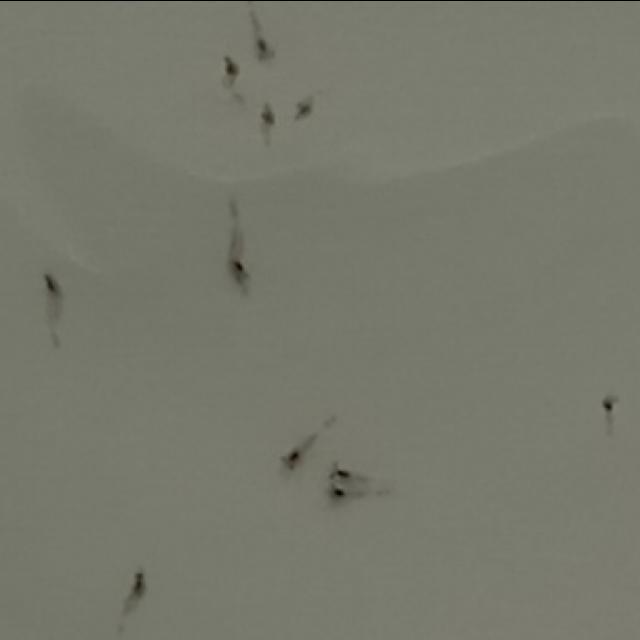shrimp-seed: (213, 248, 255, 302), (34, 258, 68, 308), (289, 88, 321, 132), (273, 442, 309, 480), (250, 24, 278, 72), (120, 565, 157, 601), (324, 480, 360, 512), (590, 389, 622, 423), (218, 51, 244, 85), (322, 457, 354, 484), (256, 103, 284, 131)
